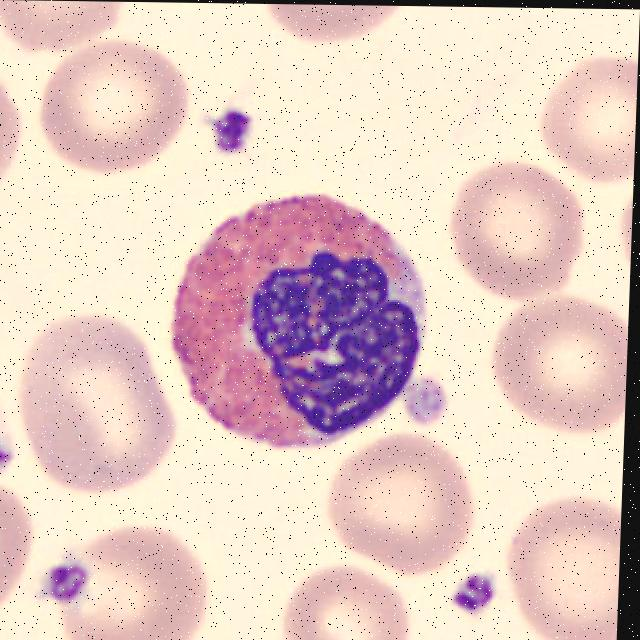eosinophil: (166, 189, 433, 454)
platelets: (397, 375, 453, 435), (39, 545, 91, 607), (210, 101, 258, 152), (453, 568, 499, 610), (0, 443, 18, 481)
rbc: (17, 311, 182, 498), (35, 42, 193, 180), (56, 514, 228, 640), (323, 435, 475, 577), (488, 296, 629, 441), (448, 158, 589, 300), (505, 494, 622, 640), (537, 49, 638, 186), (269, 568, 413, 640), (259, 4, 427, 55), (0, 0, 136, 58), (0, 486, 35, 626), (0, 61, 30, 212), (603, 186, 633, 281)
